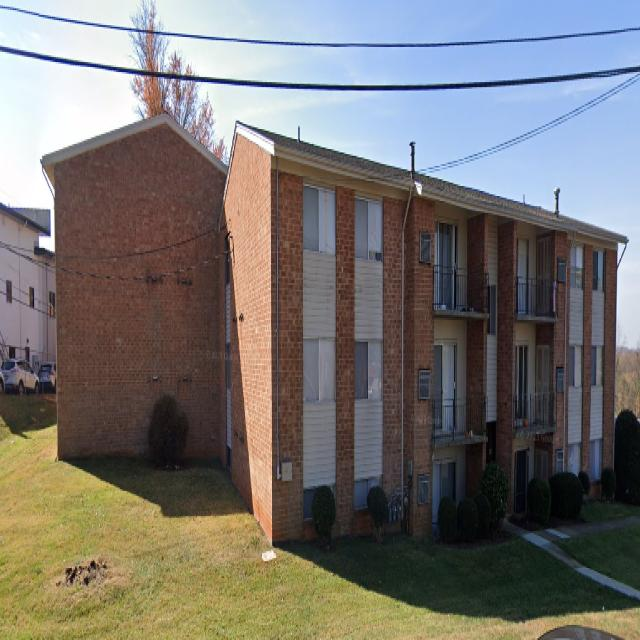House: (40, 113, 629, 548), (0, 200, 57, 362)
